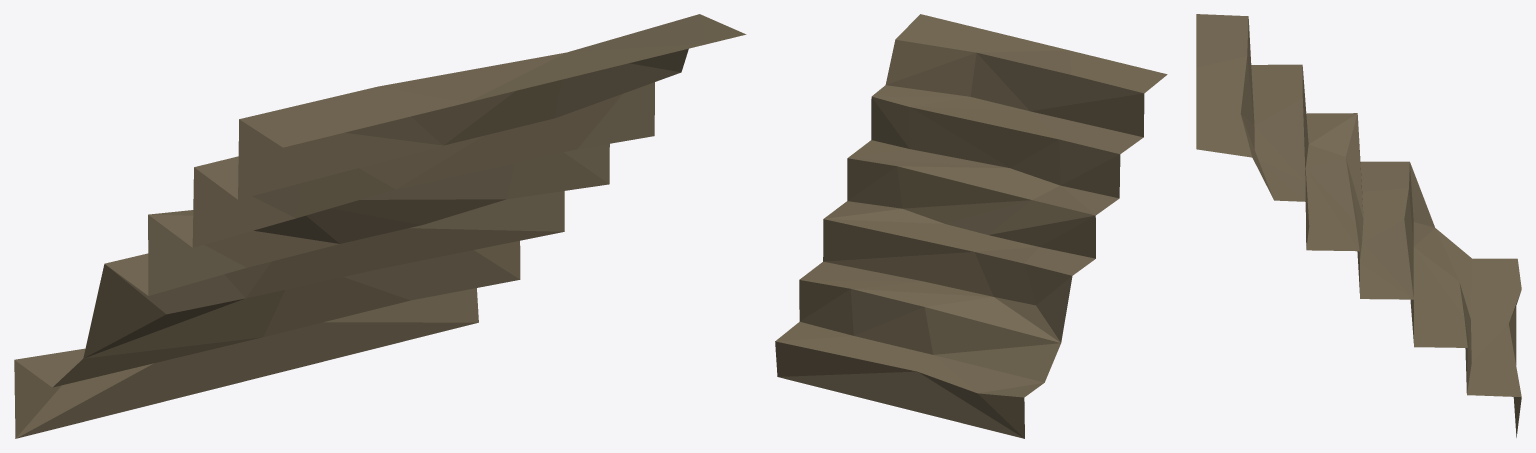
The model's file is Staris_Small_Second_low.fbx.
3 renders of one model, left to right at view 1: azimuth 30°, elevation 25°; view 2: azimuth 150°, elevation 25°; view 3: azimuth 270°, elevation 25°, orthographic. The views are drawn at different scales.
Parts seen in each view (by area): view 1: Stairs_Small_Second_low; view 2: Stairs_Small_Second_low; view 3: Stairs_Small_Second_low.
Part boxes in pixels (bbox=[...]): Stairs_Small_Second_low: bbox=[14, 14, 746, 438]; Stairs_Small_Second_low: bbox=[775, 14, 1167, 438]; Stairs_Small_Second_low: bbox=[1196, 14, 1521, 437].
Size of the model in its own units: 1 by 1 by 1.02.
